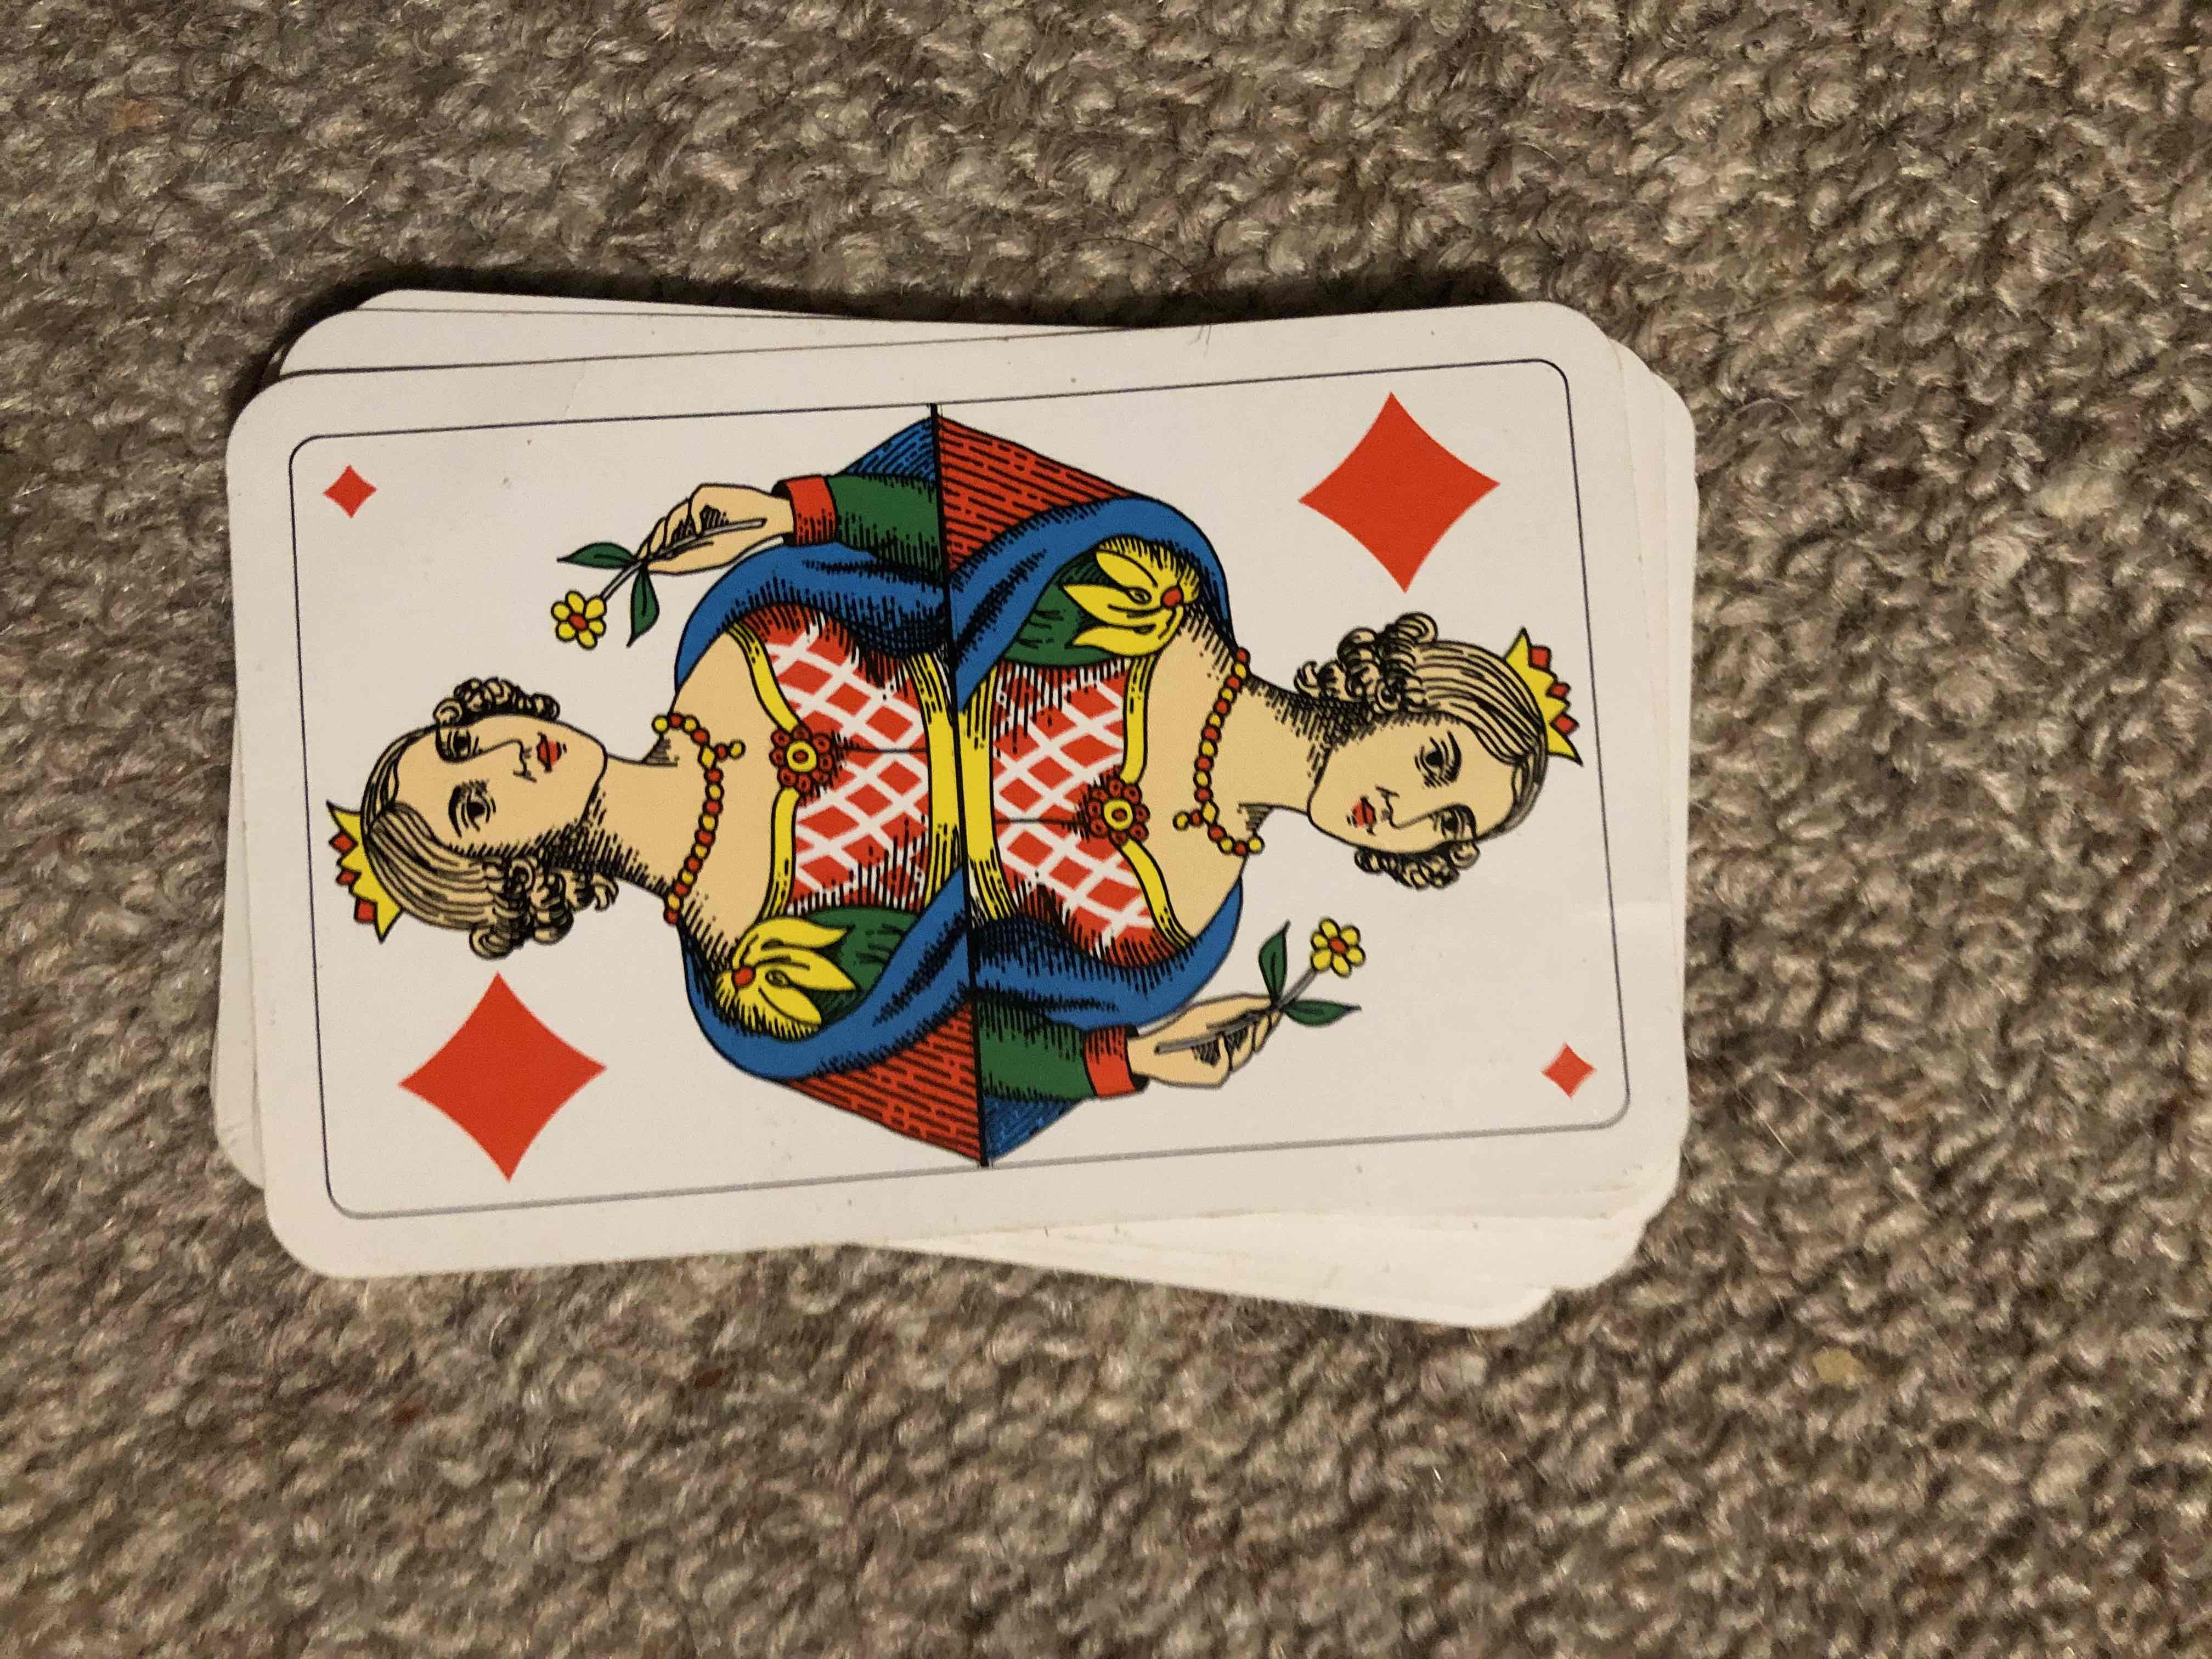diamondQueen: (258, 317, 1677, 1175)
